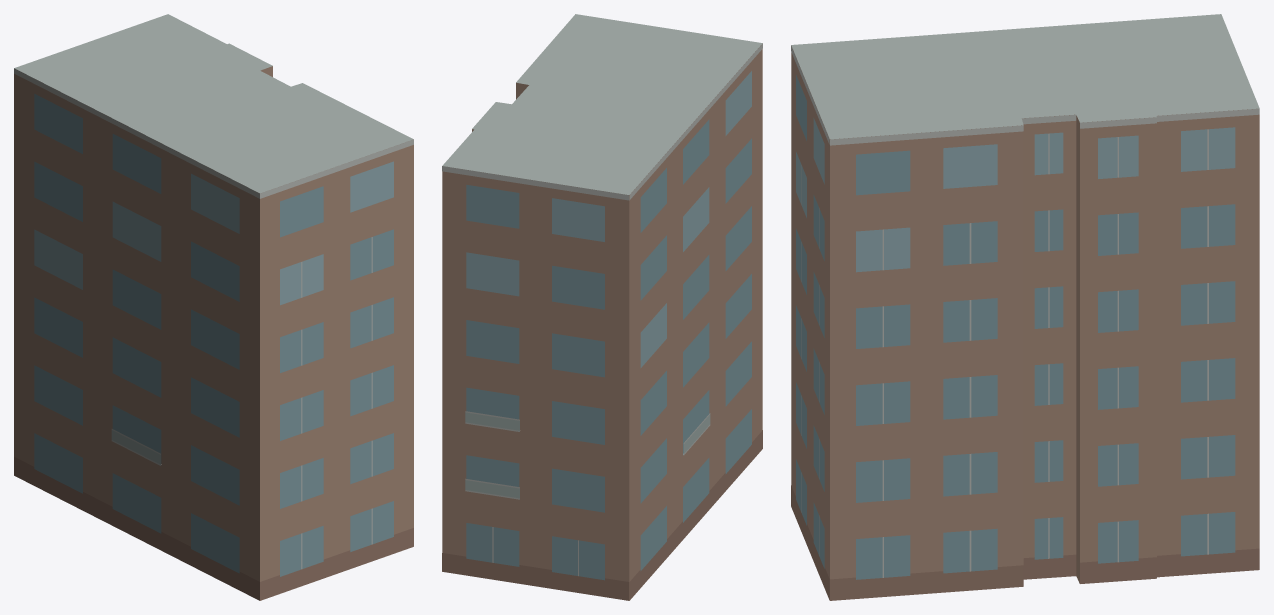
File: survey-upis-32905586.glb
3 views of the same model, side by side, from view 1: azimuth 30°, elevation 25°; view 2: azimuth 150°, elevation 25°; view 3: azimuth 270°, elevation 25° (orthographic). The views are drawn at different scales.
Visible parts, largest first — view 1: survey-upis-32905586.tmp; view 2: survey-upis-32905586.tmp; view 3: survey-upis-32905586.tmp.
Boxes of the visible parts, x1,y1,x2,y2 form: survey-upis-32905586.tmp: (14, 14, 413, 600); survey-upis-32905586.tmp: (442, 14, 762, 600); survey-upis-32905586.tmp: (791, 14, 1259, 600).
Bounding box in the file's own units: 10.68 × 18.3 × 16.86.
